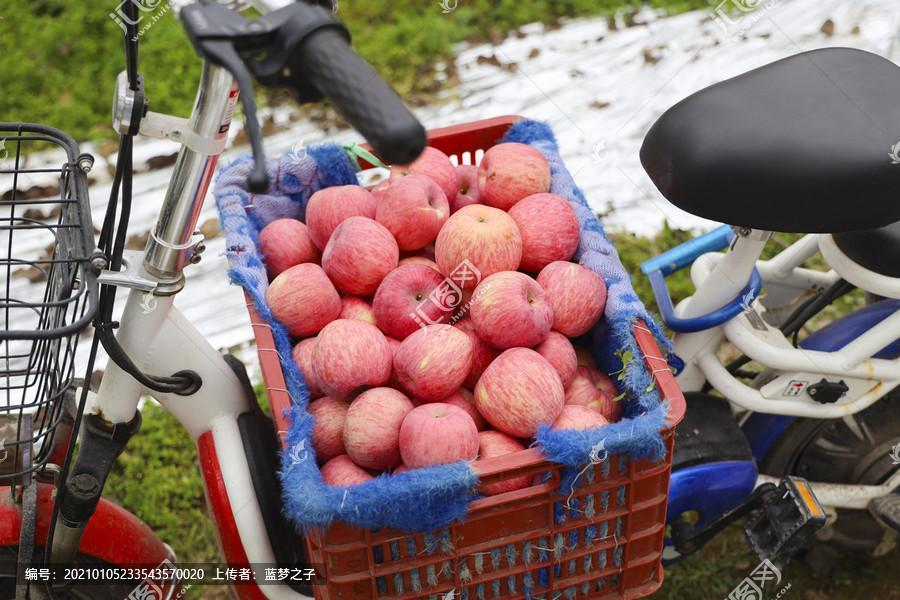apple: (474, 348, 567, 441), (433, 203, 522, 287), (371, 264, 460, 341), (469, 271, 555, 345), (320, 216, 402, 291), (314, 318, 392, 396), (394, 323, 472, 401), (345, 386, 414, 468), (536, 259, 608, 336), (375, 172, 447, 247), (266, 263, 343, 333), (398, 403, 479, 469), (510, 192, 581, 267), (476, 141, 552, 208), (304, 186, 377, 250)
